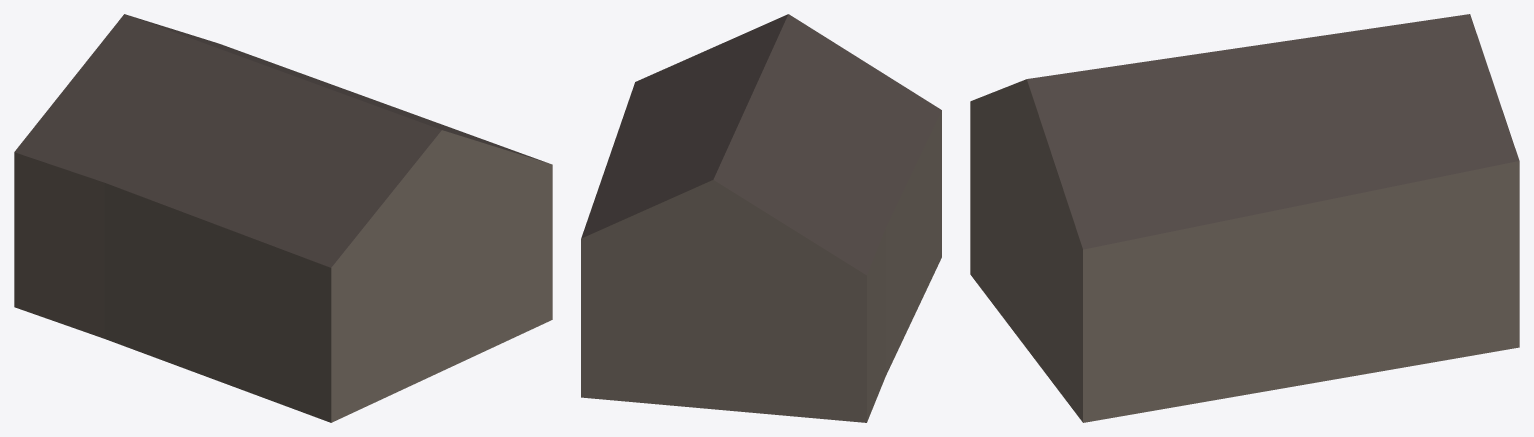
The picture shows the model from 3 angles, left to right: view 1: azimuth 30°, elevation 25°; view 2: azimuth 150°, elevation 25°; view 3: azimuth 270°, elevation 25°; orthographic projection. The views are drawn at different scales.
Parts seen in each view (by area): view 1: HP-w1198840844; view 2: HP-w1198840844; view 3: HP-w1198840844.
Boxes of the visible parts, x1,y1,x2,y2 form: HP-w1198840844: [14, 14, 552, 422]; HP-w1198840844: [581, 14, 941, 422]; HP-w1198840844: [970, 14, 1519, 422].
Bounding box in the file's own units: 15.84 × 9.34 × 17.23.
